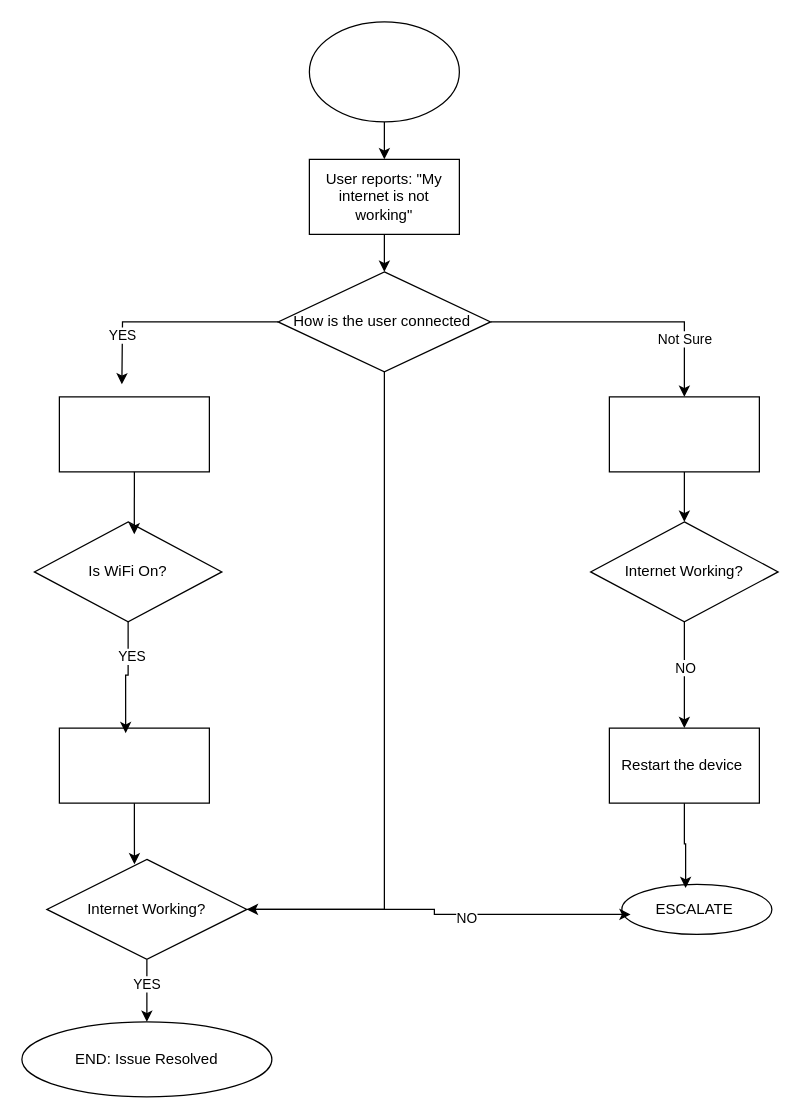
Some shapes in this 800 by 1119 pixel diagram are drawn without their labels. The centre of each missing label's shape, as x and y in pixels:
"Check if WiFi is turned ON" belongs at pixel 133 434.
"Restart Device" belongs at pixel 683 434.
"START" belongs at pixel 383 71.
"Verify Correct Network Connectivity" belongs at pixel 133 765.
